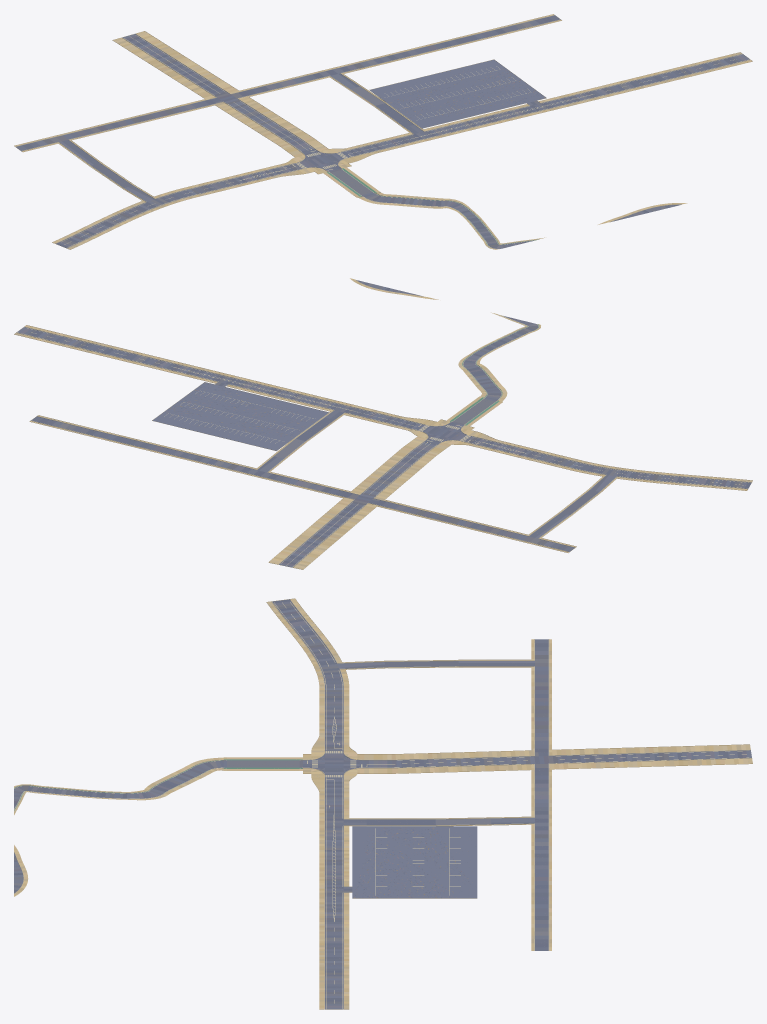
The model's file is ART_KyobashiRoads.glb.
3 views of the same model, one above another, from view 1: azimuth 30°, elevation 25°; view 2: azimuth 150°, elevation 25°; view 3: azimuth 270°, elevation 25° (orthographic). The views are drawn at different scales.
Visible parts, largest first — view 1: ART_KyobashiRoads; view 2: ART_KyobashiRoads; view 3: ART_KyobashiRoads.
Part boxes in pixels (bbox=[...]): ART_KyobashiRoads: bbox=[14, 14, 752, 249]; ART_KyobashiRoads: bbox=[14, 278, 752, 569]; ART_KyobashiRoads: bbox=[14, 598, 752, 1009].
Bounding box in the file's own units: 422 × 0.1965 × 321.
